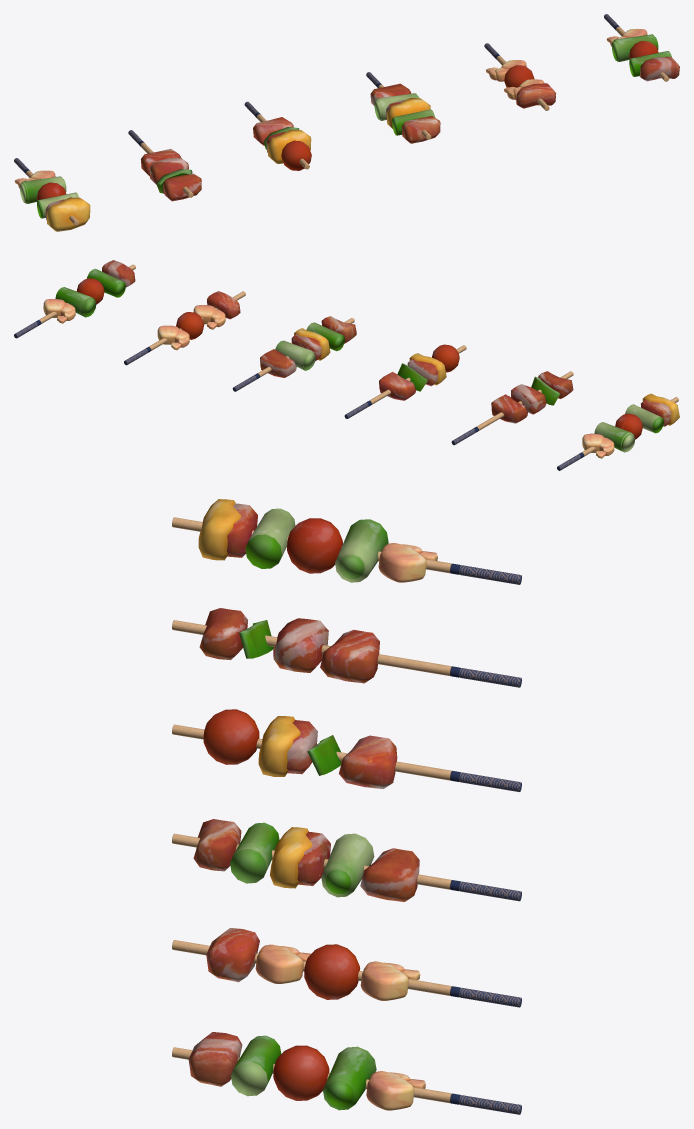
File: JapaneseRestaurant_Kushi.fbx
The picture shows the model from 3 angles, top to bottom: view 1: azimuth 30°, elevation 25°; view 2: azimuth 150°, elevation 25°; view 3: azimuth 270°, elevation 25°; orthographic projection. The views are drawn at different scales.
Visible parts, largest first — view 1: JapaneseRestaurant_Kushi; view 2: JapaneseRestaurant_Kushi; view 3: JapaneseRestaurant_Kushi.
Boxes of the visible parts, x1=… form: JapaneseRestaurant_Kushi: x1=14, y1=14, x2=679, y2=231; JapaneseRestaurant_Kushi: x1=14, y1=260, x2=679, y2=470; JapaneseRestaurant_Kushi: x1=172, y1=499, x2=521, y2=1114.
Size of the model in its own units: 101 by 5.01 by 25.88.
